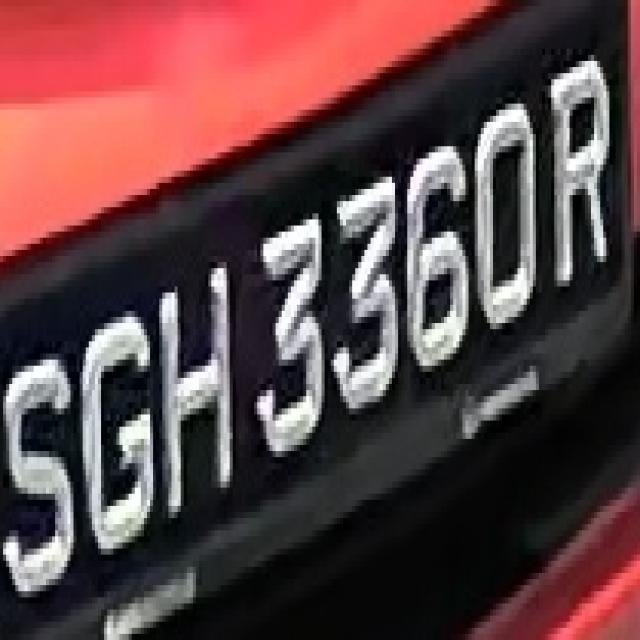0: (469, 98, 545, 342)
3: (319, 158, 404, 420), (254, 195, 322, 457)
6: (407, 128, 478, 378)
G: (83, 281, 162, 548)
H: (159, 244, 239, 506)
R: (542, 43, 619, 311)
S: (6, 317, 80, 616)
